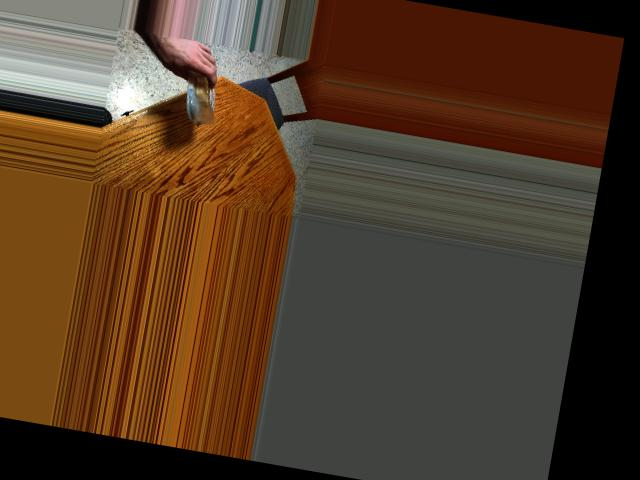cheese: (156, 51, 235, 128)
